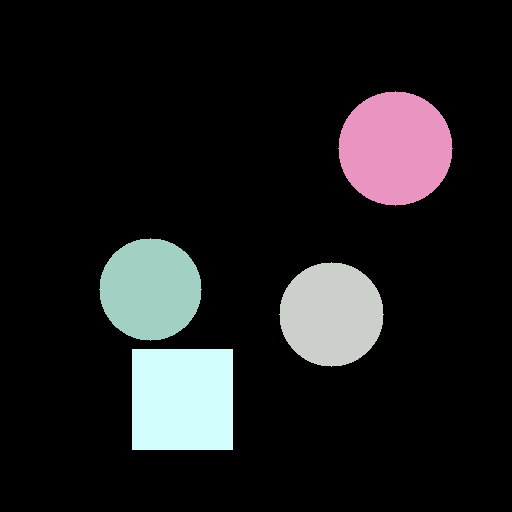circle: (338, 91, 452, 205), (279, 262, 383, 366), (99, 238, 201, 340)
square: (132, 349, 232, 449)
